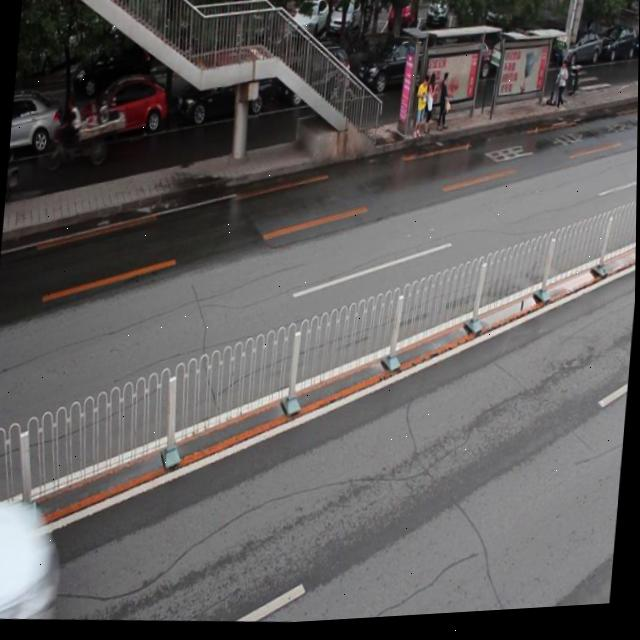car: (0, 492, 68, 623), (76, 71, 171, 150), (176, 56, 271, 132), (277, 46, 353, 116), (356, 36, 434, 103), (9, 88, 64, 160)
